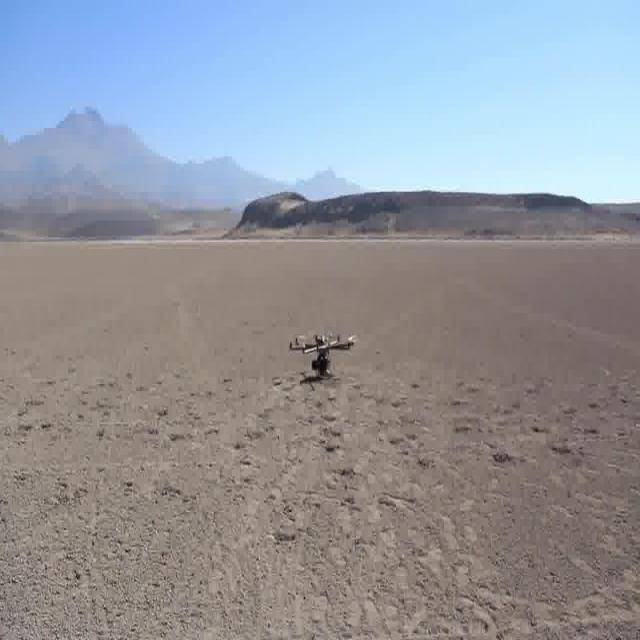drone: (0, 516, 640, 640)
